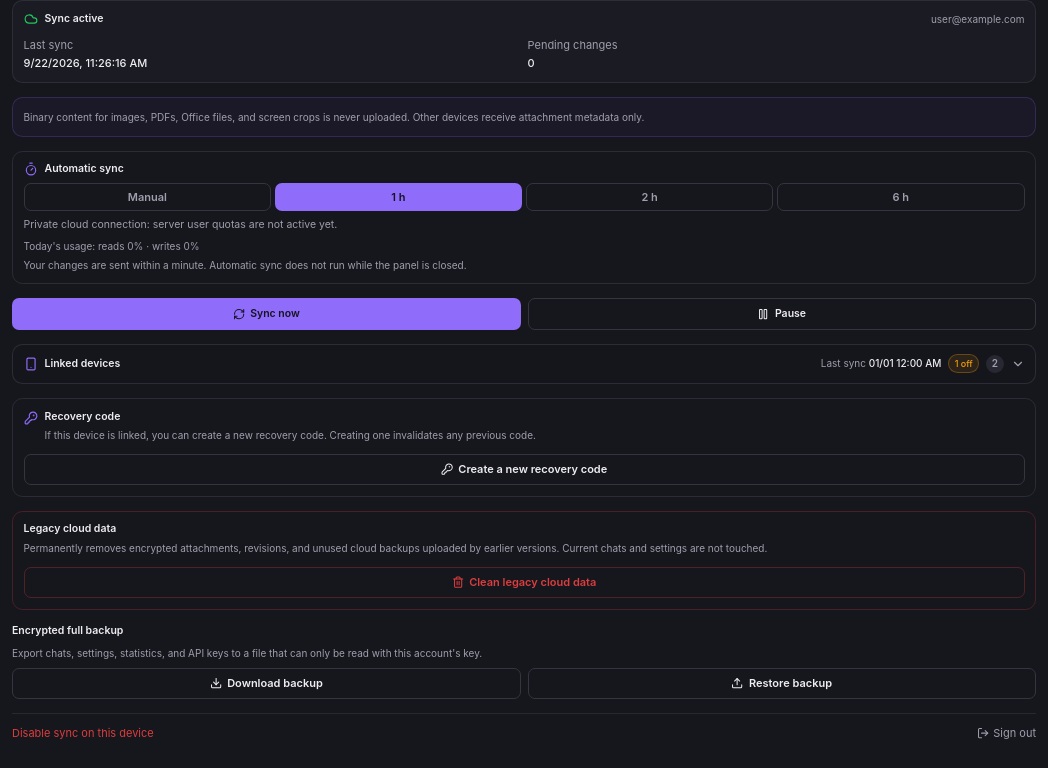
Test case: SyncPanel cihaz listesi › Escape ile ad değişikliğini iptal eder
The width and height of the screenshot is (1048, 768).
Click the button "Linked devices": point(82, 363) [13,344,1035,383]
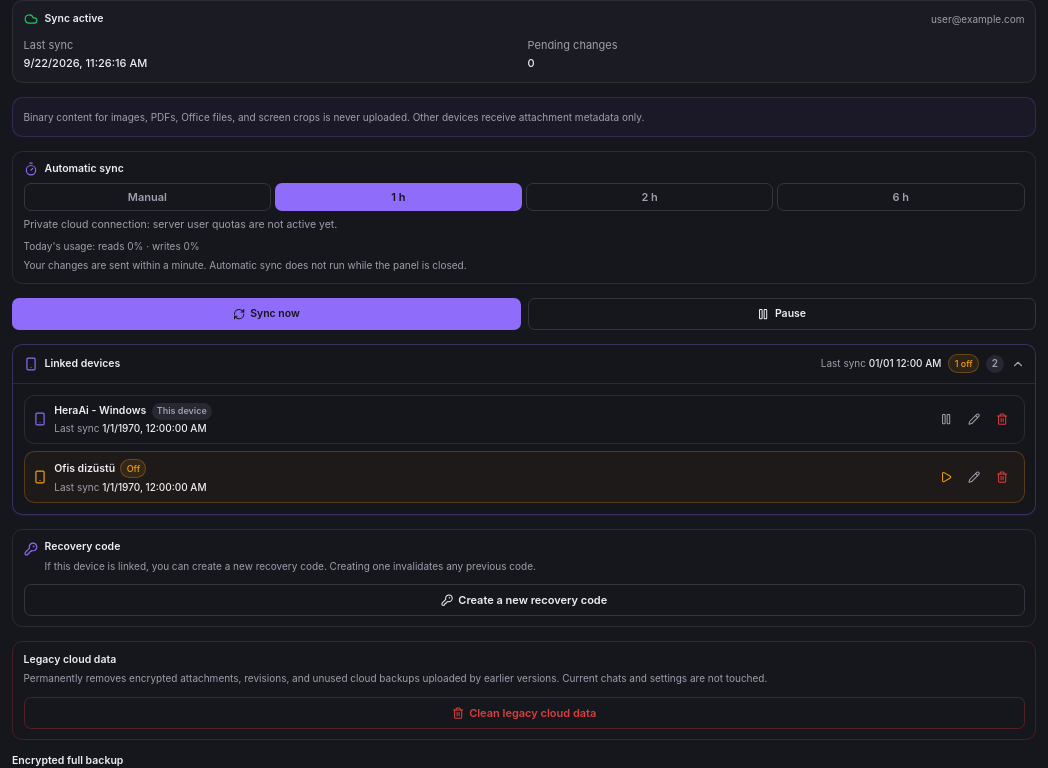
Click the button named "Rename device" in the row of "HeraAi - Windows": point(975, 419) [962,407,987,432]
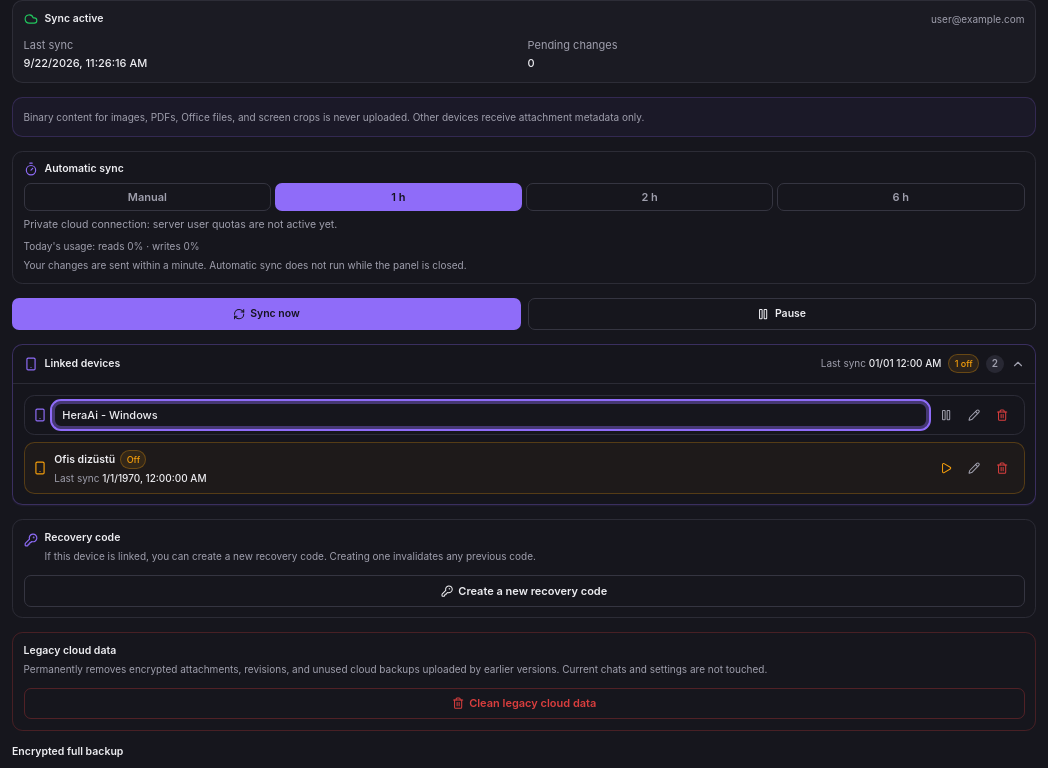
Replace the text in the field named "Device name" with "Vazgeçilecek ad": point(491, 415) [54,402,927,427]
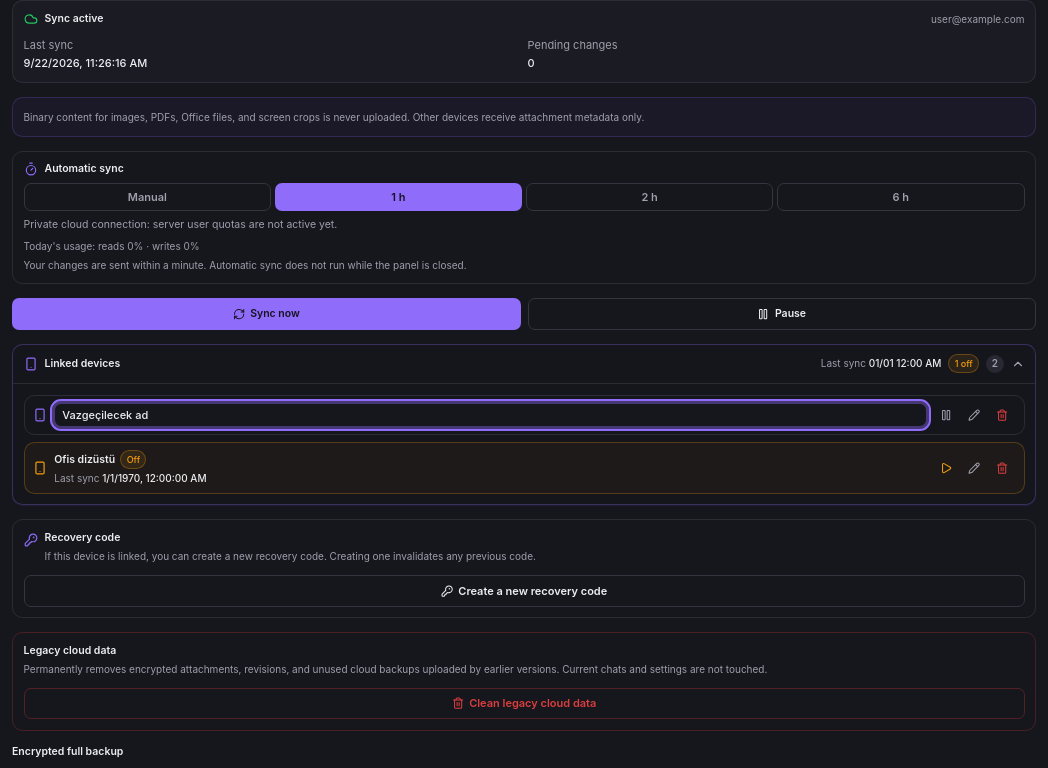
Press Escape in the field named "Device name", box [54,402,927,427]
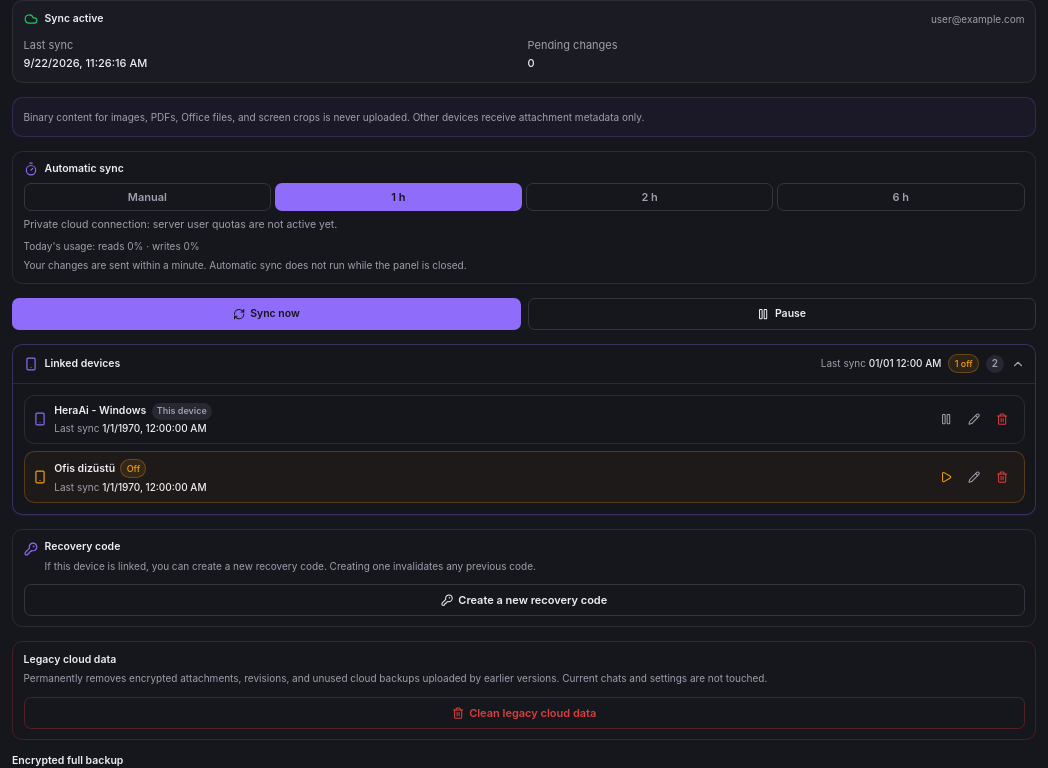
Now the text "HeraAi - Windows" is shown, box [54,404,146,418]
